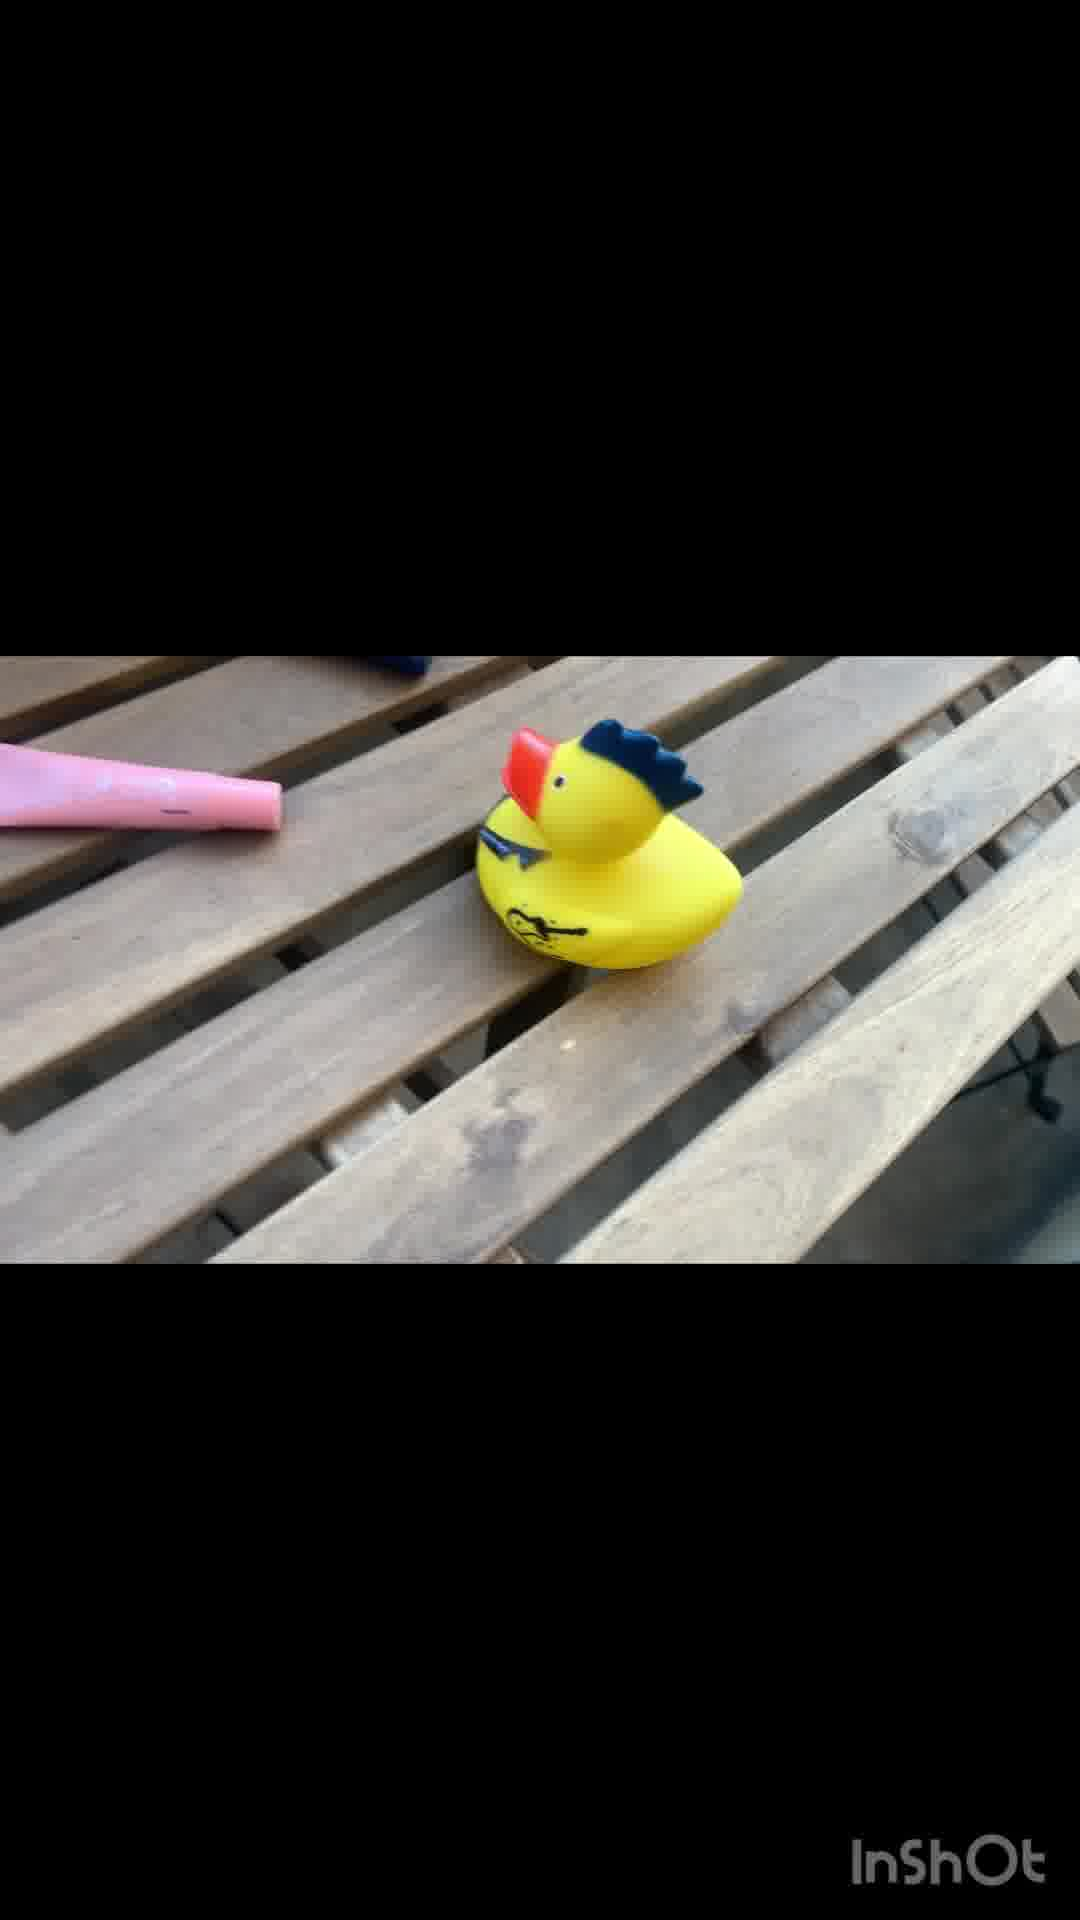duck: (462, 713, 746, 972)
lip balm: (1, 744, 295, 841)
